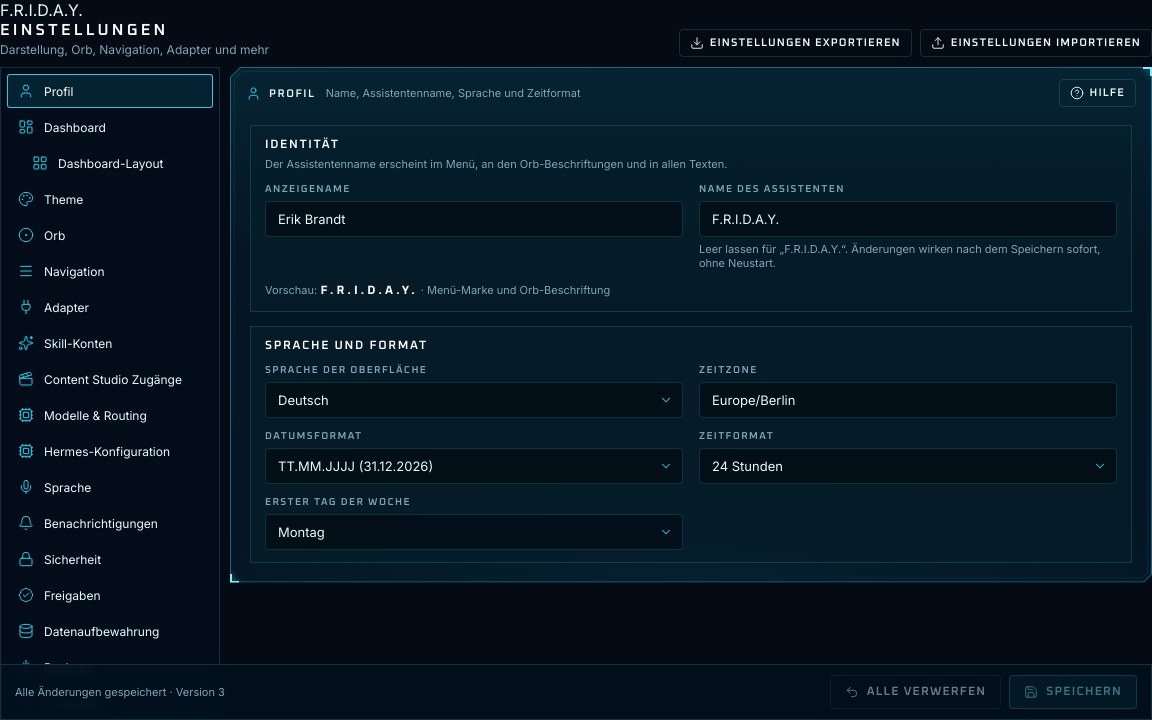
Test: profile and assistant name › shows the unsaved indicator and discards the draft
Type "X" into the field labelled "Anzeigename" at (474, 218), box x1=265 y1=200 x2=683 y2=236
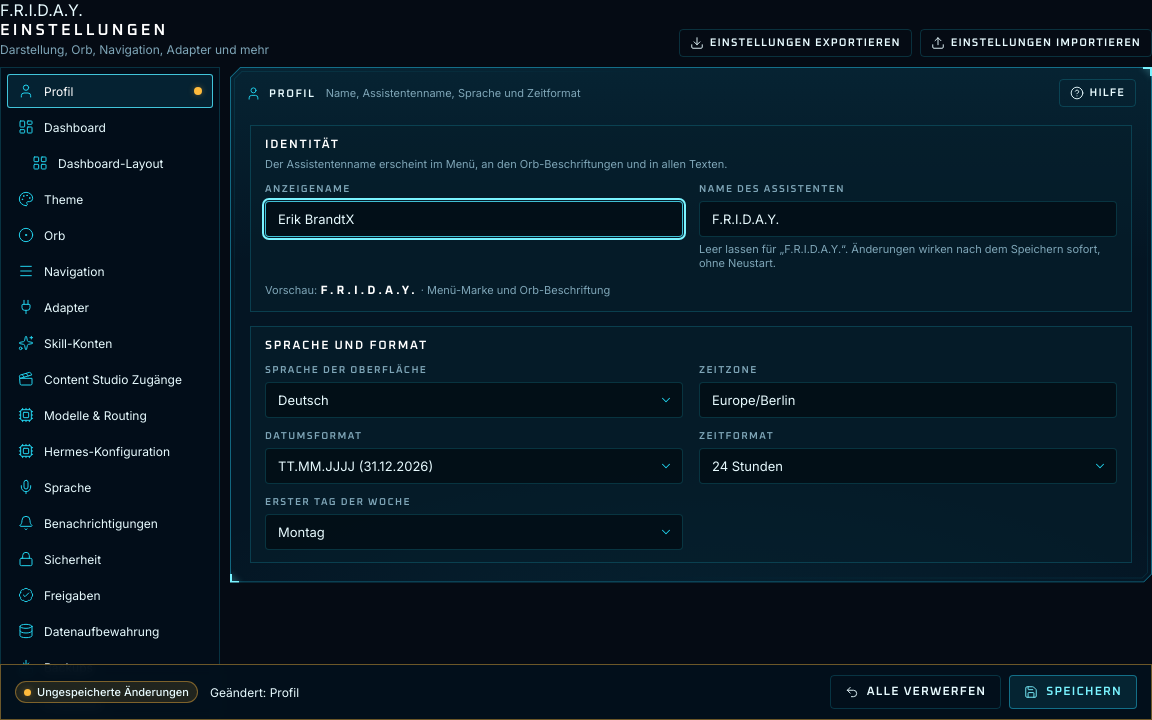
Expected: the picture named "Ungespeicherte Änderungen" is shown, x1=194 y1=87 x2=202 y2=95
Expected: the button "Speichern" is enabled, x1=1009 y1=675 x2=1137 y2=709
Click the button "Alle verwerfen" at (915, 692), box x1=830 y1=675 x2=1001 y2=709
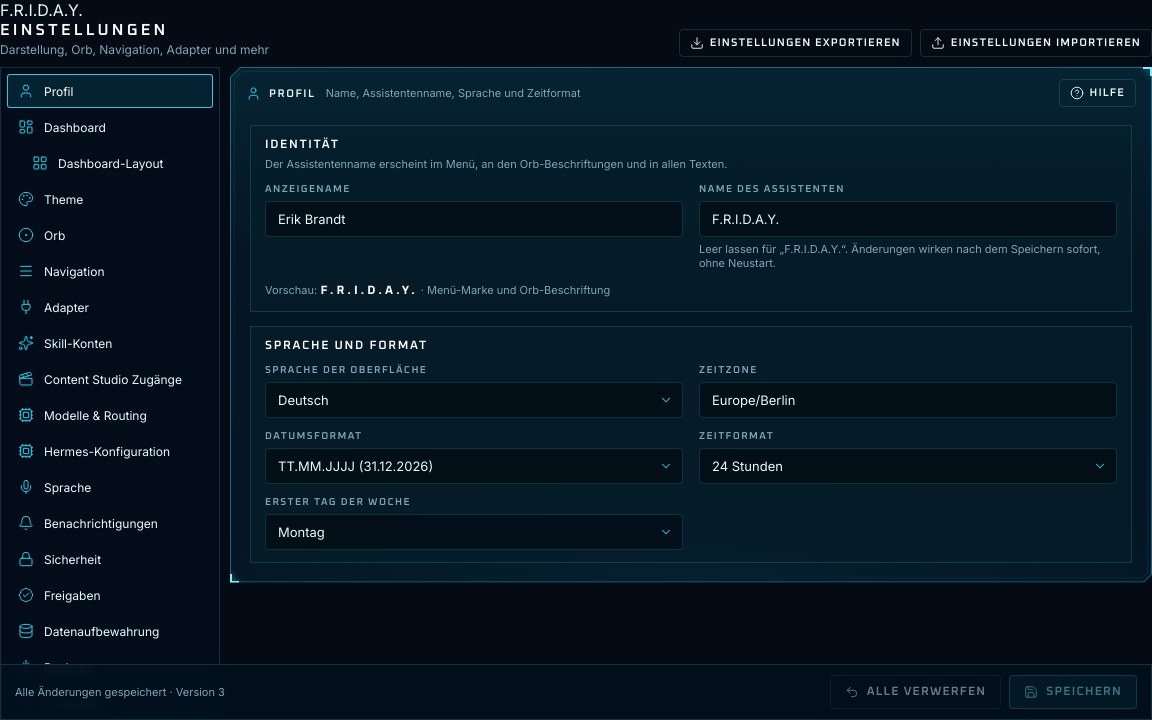
Expected: the text "Ungespeicherte Änderungen" is gone
Expected: the field labelled "Anzeigename" holds "Erik Brandt", x1=265 y1=200 x2=683 y2=236
Expected: the button "Speichern" is disabled, x1=1009 y1=675 x2=1137 y2=709
